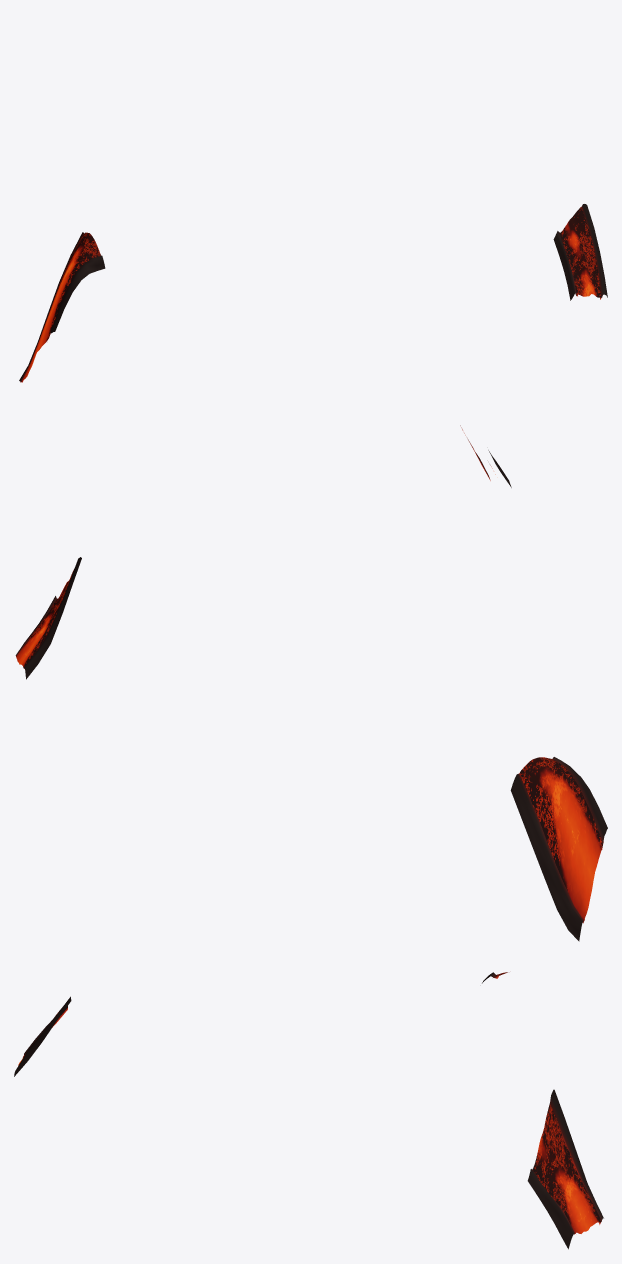
The model's file is lava_seg_5.glb.
3 renders of one model, top to bottom at view 1: azimuth 30°, elevation 25°; view 2: azimuth 150°, elevation 25°; view 3: azimuth 270°, elevation 25°, orthographic. The views are drawn at different scales.
Visible parts, largest first — view 1: seg; view 2: seg; view 3: seg.
Part boxes in pixels (x1,y1,x2,y2): seg: (19, 204, 607, 382); seg: (15, 425, 607, 941); seg: (14, 972, 603, 1249).
Size of the model in its own units: 71.4 by 32.88 by 60.2.
